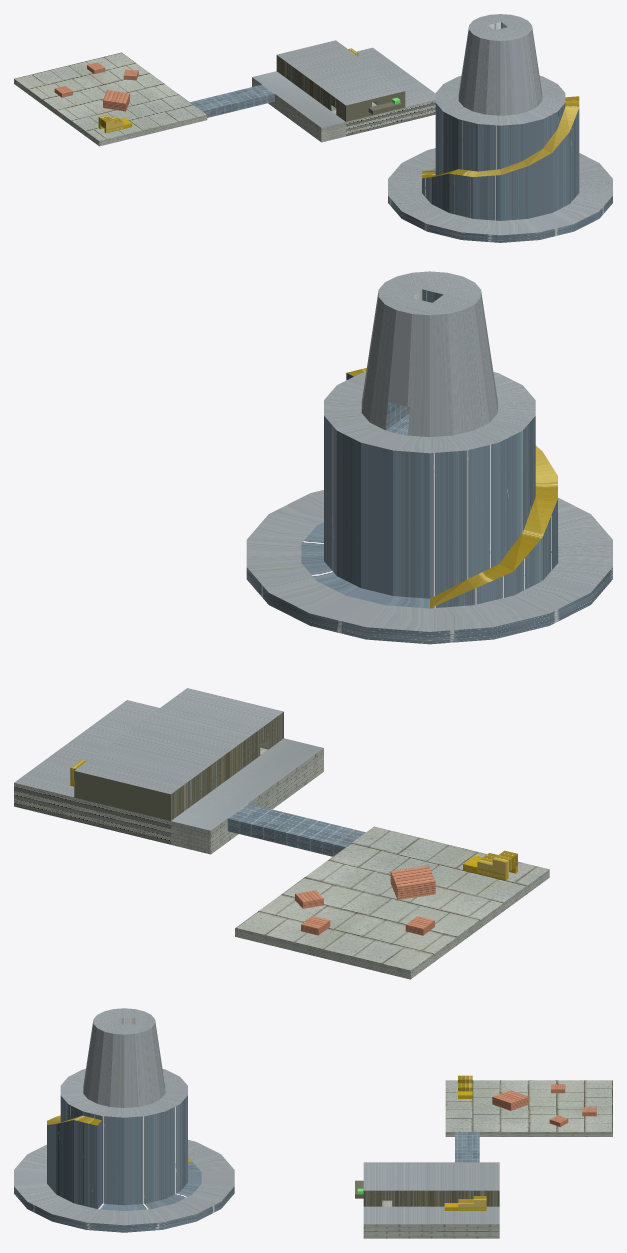
Rendered from gameStage01_1.fbx.
3 views of the same model, one above another, from view 1: azimuth 30°, elevation 25°; view 2: azimuth 150°, elevation 25°; view 3: azimuth 270°, elevation 25° (orthographic). The views are drawn at different scales.
Parts seen in each view (by area): view 1: Ground03, Ground02, Ground01, BridgeBox01, Box01, StepBox01; view 2: Ground03, Ground02, Ground01, BridgeBox01, Box01, StepBox01; view 3: Ground03, Ground02, Ground01, BridgeBox01, Box01, StepBox02, StepBox01.
Part boxes in pixels (<box>): Ground03: <box>388,14,612,242</box>; Ground02: <box>252,40,435,142</box>; Ground01: <box>14,52,207,146</box>; BridgeBox01: <box>190,84,274,117</box>; Box01: <box>103,90,129,111</box>; StepBox01: <box>98,115,132,133</box>; Ground03: <box>246,271,612,644</box>; Ground02: <box>14,688,323,854</box>; Ground01: <box>235,826,549,979</box>; BridgeBox01: <box>227,803,365,856</box>; Box01: <box>390,865,435,900</box>; StepBox01: <box>463,850,517,880</box>; Ground03: <box>14,1008,234,1232</box>; Ground02: <box>355,1162,499,1238</box>; Ground01: <box>445,1080,612,1136</box>; BridgeBox01: <box>455,1132,479,1162</box>; Box01: <box>492,1090,529,1110</box>; StepBox02: <box>444,1196,486,1210</box>; StepBox01: <box>458,1075,472,1098</box>.
Bounding box in the file's own units: 15473 × 24346 × 8374.
